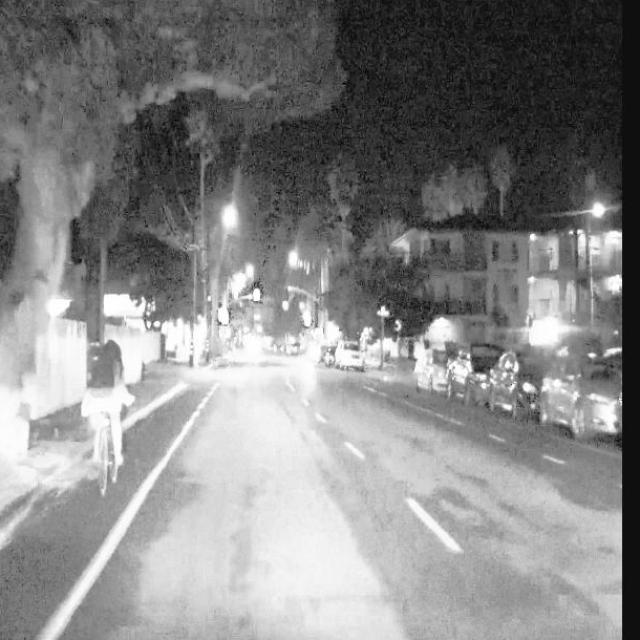Tree: (0, 4, 75, 463)
